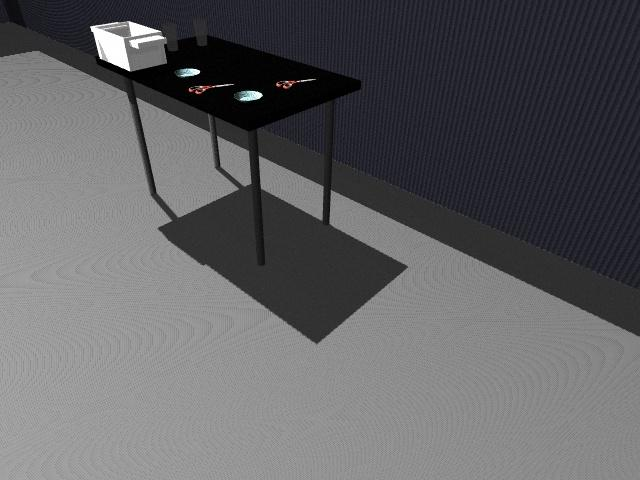cup: (161, 22, 178, 51), (193, 18, 208, 46)
plate: (234, 90, 263, 102), (174, 67, 201, 78)
scissors: (190, 83, 235, 95), (277, 79, 315, 89)
